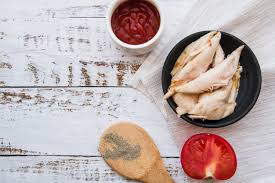Chicken: (182, 44, 237, 117)
